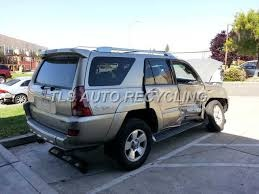Dent: (156, 82, 206, 129)
